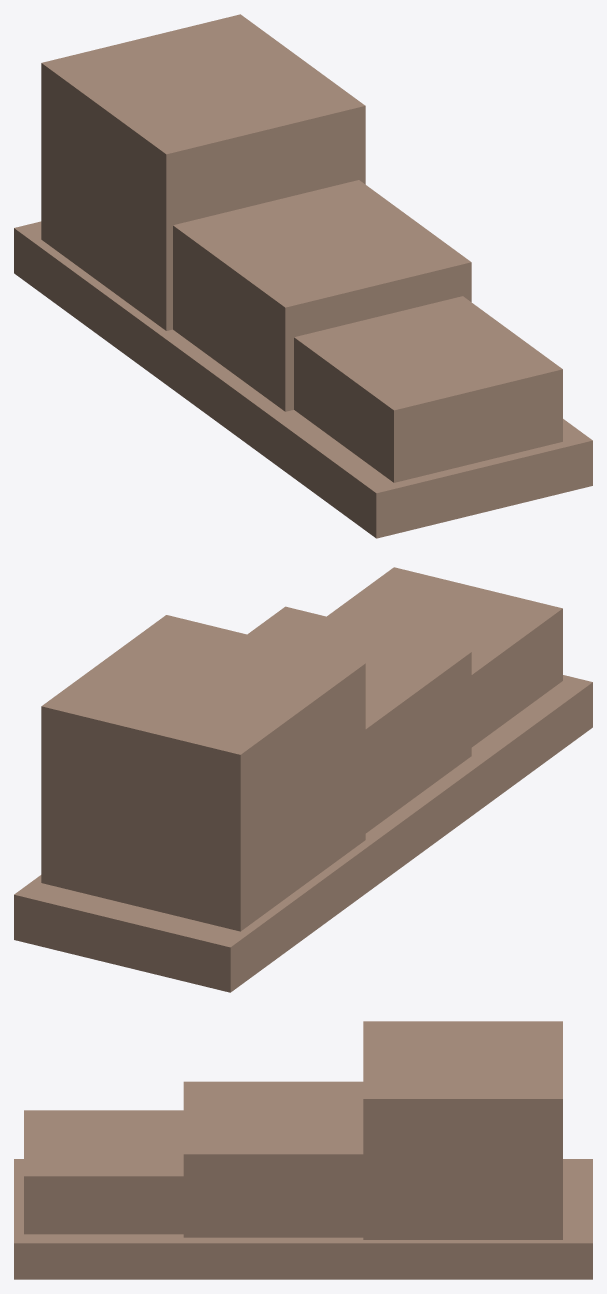
File: foley_shoe.glb
3 renders of one model, top to bottom at view 1: azimuth 30°, elevation 25°; view 2: azimuth 150°, elevation 25°; view 3: azimuth 270°, elevation 25°, orthographic. The views are drawn at different scales.
Visible parts, largest first — view 1: foley_shoe; view 2: foley_shoe; view 3: foley_shoe.
Part boxes in pixels (bbox=[...]): foley_shoe: bbox=[14, 14, 592, 538]; foley_shoe: bbox=[14, 567, 592, 992]; foley_shoe: bbox=[14, 1021, 592, 1279].
Size of the model in its own units: 0.1 by 0.098 by 0.29.
